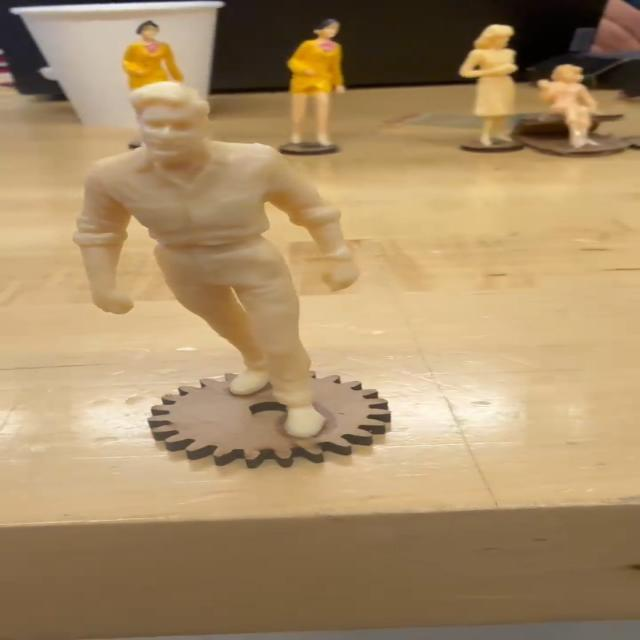Unauthorized: (68, 79, 367, 442)
